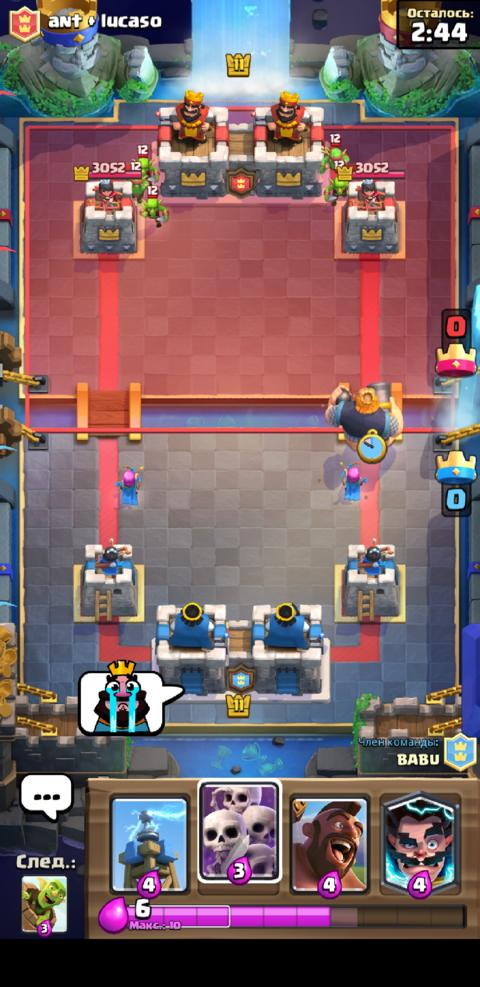ally_archer: (113, 463, 144, 505), (336, 459, 367, 501)
ally_royale_giant: (322, 380, 405, 441)
enemy_goblin: (138, 184, 167, 228), (323, 158, 348, 206), (131, 143, 158, 187)
enemy_spear_goblin: (318, 132, 350, 175), (126, 160, 149, 198)
